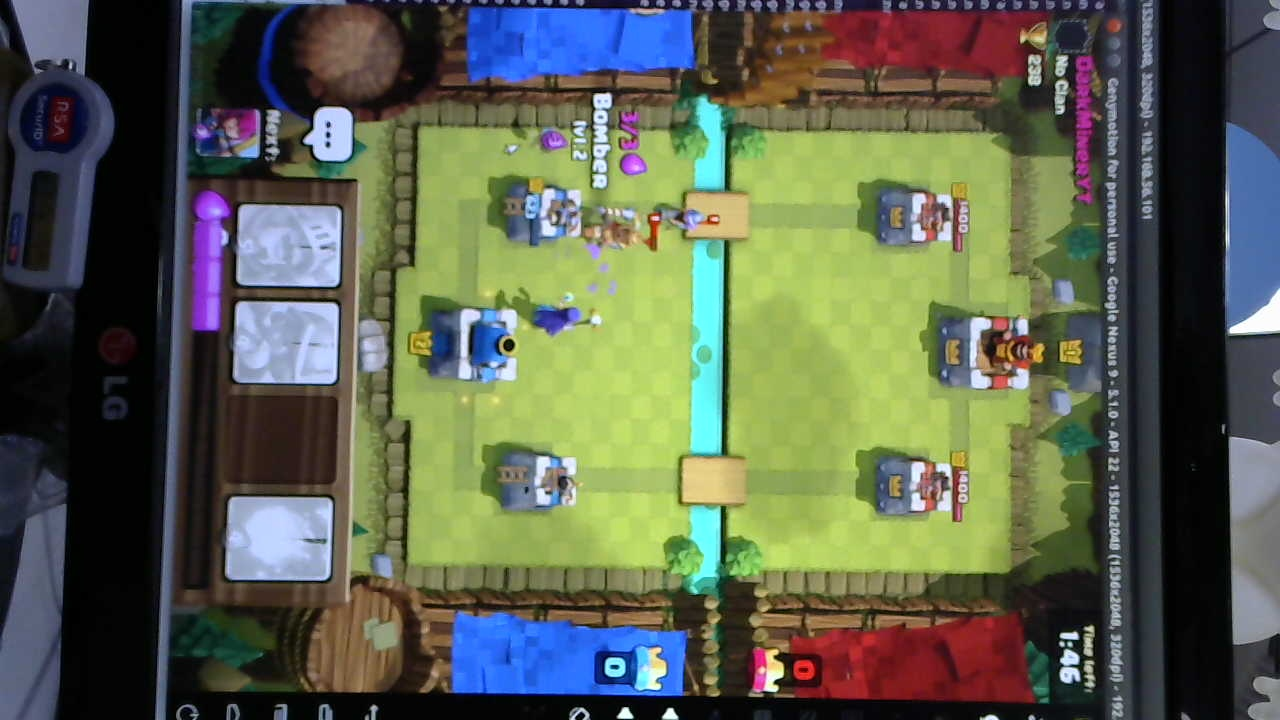arena: (504, 182, 585, 245), (501, 448, 578, 513)
earena: (875, 454, 956, 521), (873, 187, 953, 246)
eking: (929, 313, 1035, 393)
king: (426, 310, 522, 384)
musketeer: (650, 202, 712, 235)
prince: (577, 206, 647, 259)
witch: (521, 300, 606, 339)
